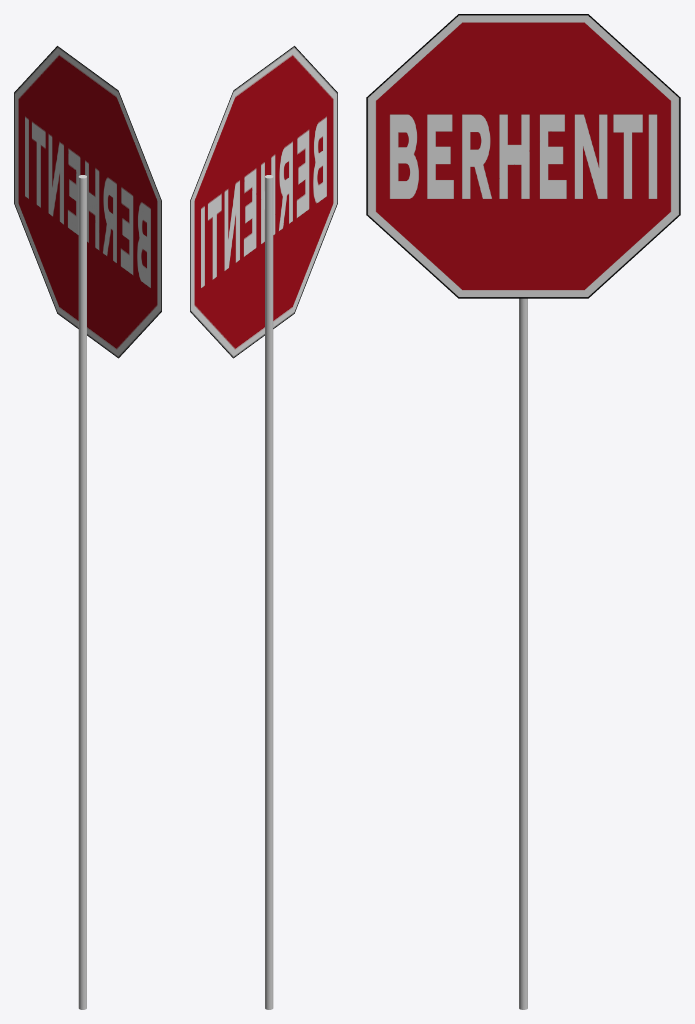
File: berhenti.fbx
The picture shows the model from 3 angles, left to right: view 1: azimuth 30°, elevation 25°; view 2: azimuth 150°, elevation 25°; view 3: azimuth 270°, elevation 25°; orthographic projection. The views are drawn at different scales.
Parts seen in each view (by area): view 1: berhenti, Cylinder; view 2: berhenti, Cylinder; view 3: berhenti, Cylinder.
Boxes of the visible parts, x1,y1,x2,y2 form: berhenti: (14,46,161,358); Cylinder: (78,175,86,1009); berhenti: (190,46,337,358); Cylinder: (265,175,273,1009); berhenti: (366,14,680,298); Cylinder: (519,298,527,1009).
Bounding box in the file's own units: 3.43 × 350 × 99.95.
